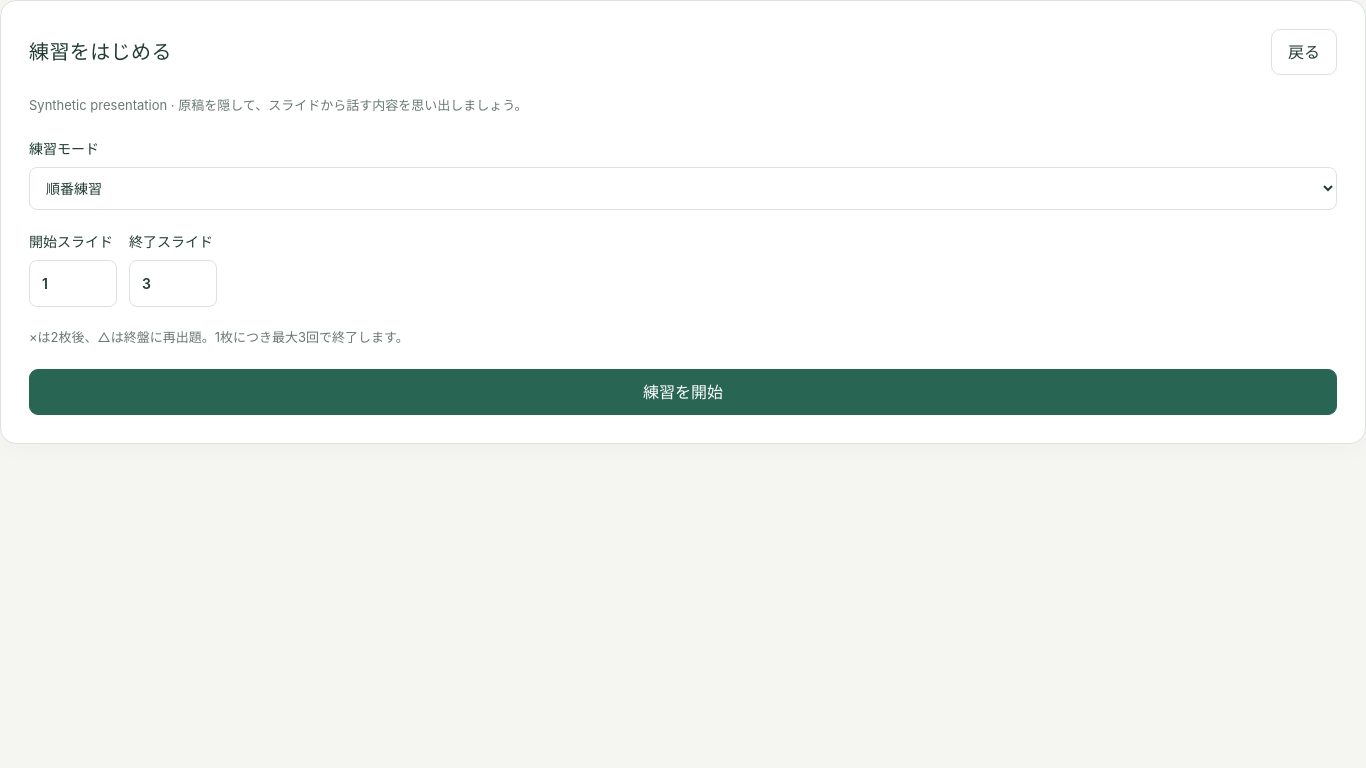
practice screen › resumes from a saved backward cursor instead of jumping to the end
Later steps or results of the test are not shown.
Click the button "練習を開始": (683, 392) [29,368,1337,415]
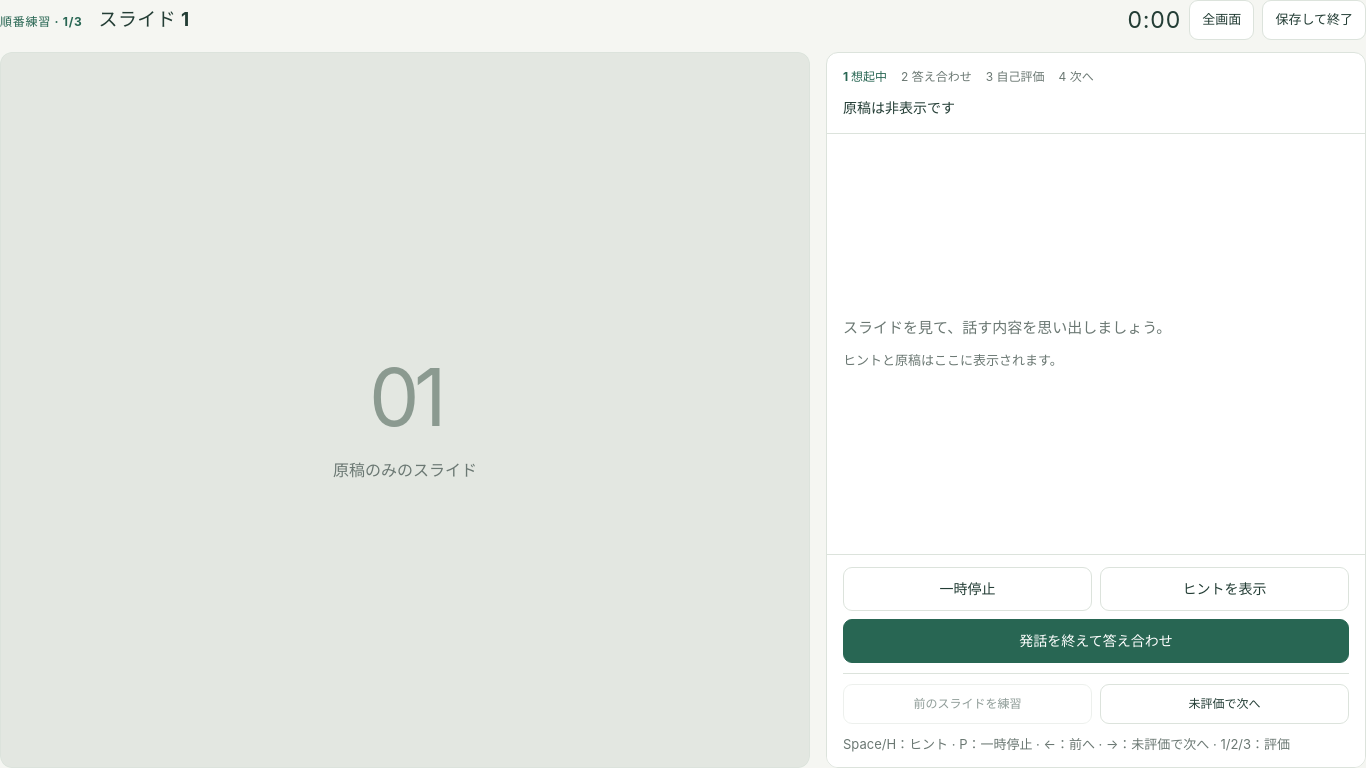
Check: the heading "スライド 1" is shown, box [98,4,190,36]
Check: the button "一時停止" is enabled, box [843,567,1092,611]
Press ArrowRight
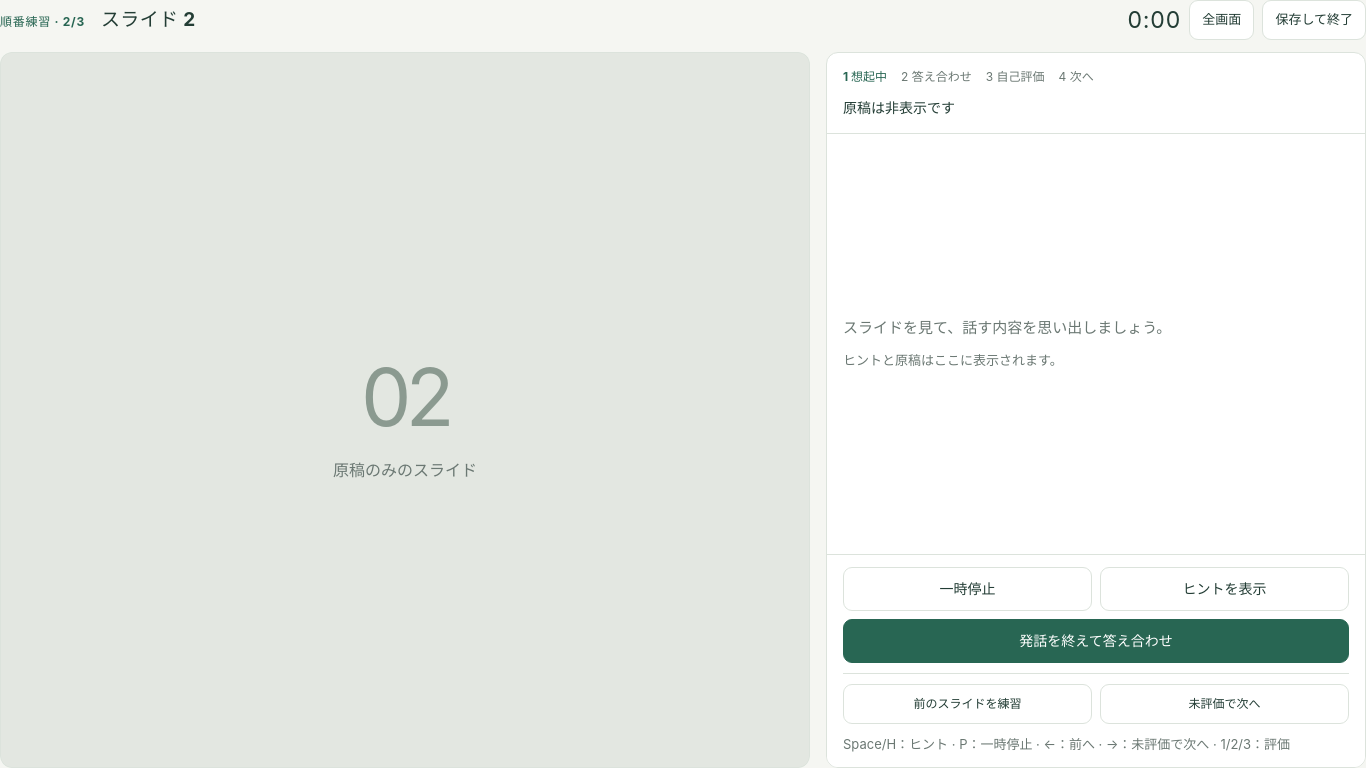
Check: the button "一時停止" is enabled, box [843,567,1092,611]
Check: the heading with test id "practice-slide-number" reads "スライド 2", box [101,4,196,36]
Press ArrowRight
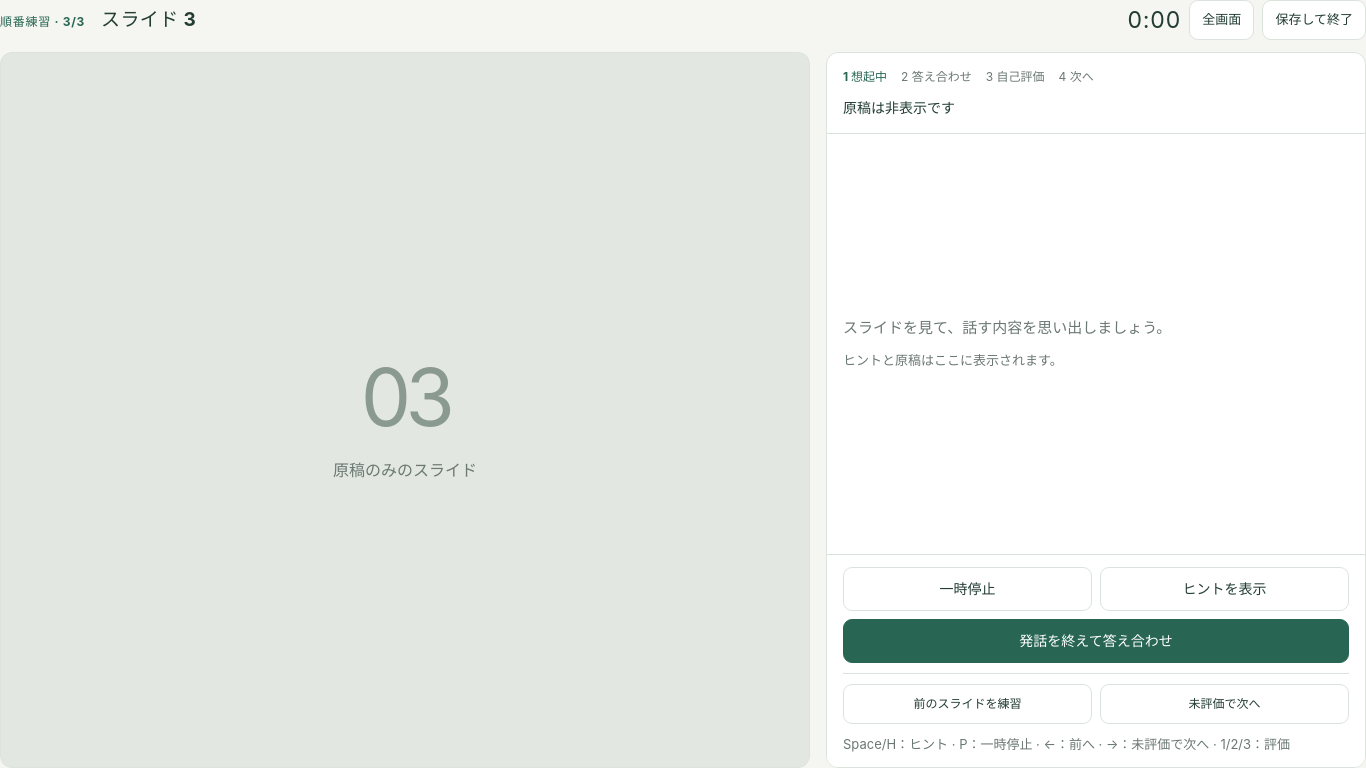
Check: the button "一時停止" is enabled, box [843,567,1092,611]
Press ArrowLeft
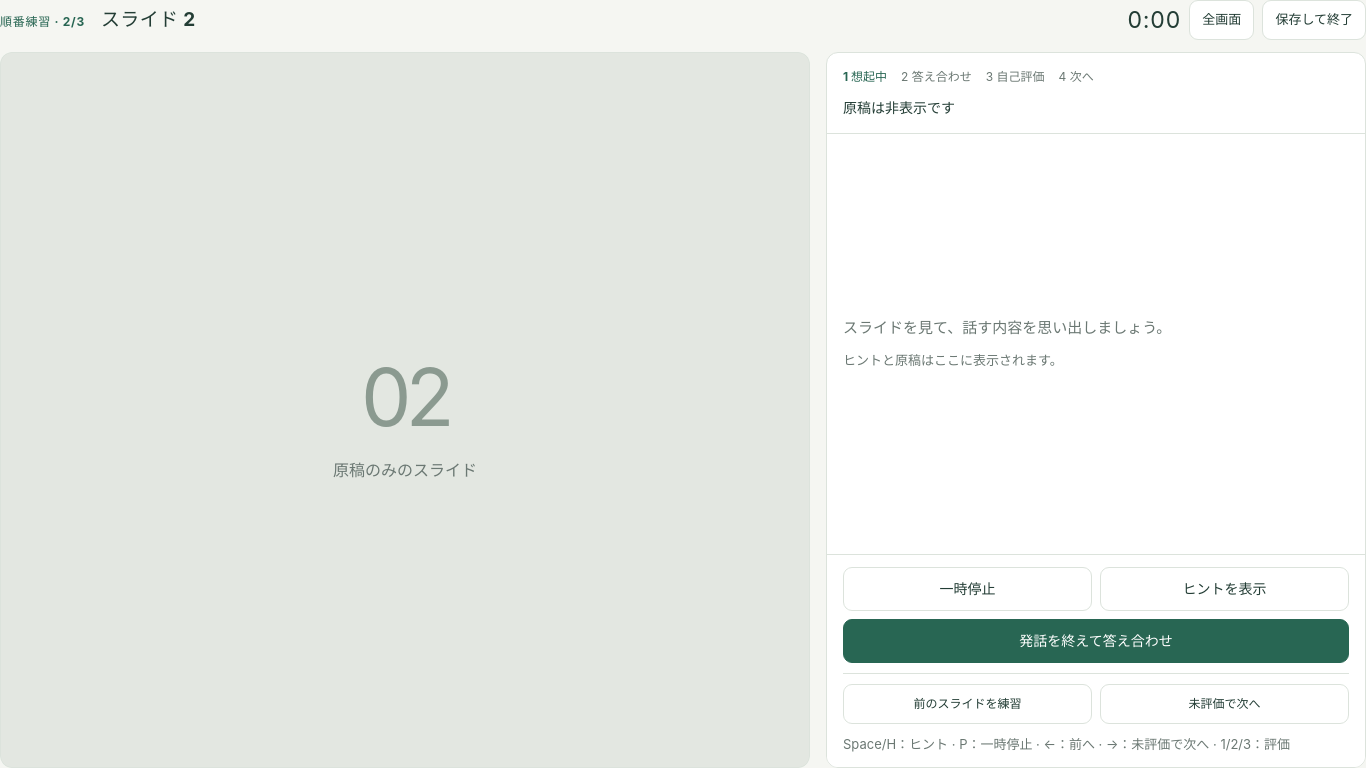
Check: the heading with test id "practice-slide-number" reads "スライド 2", box [101,4,196,36]
